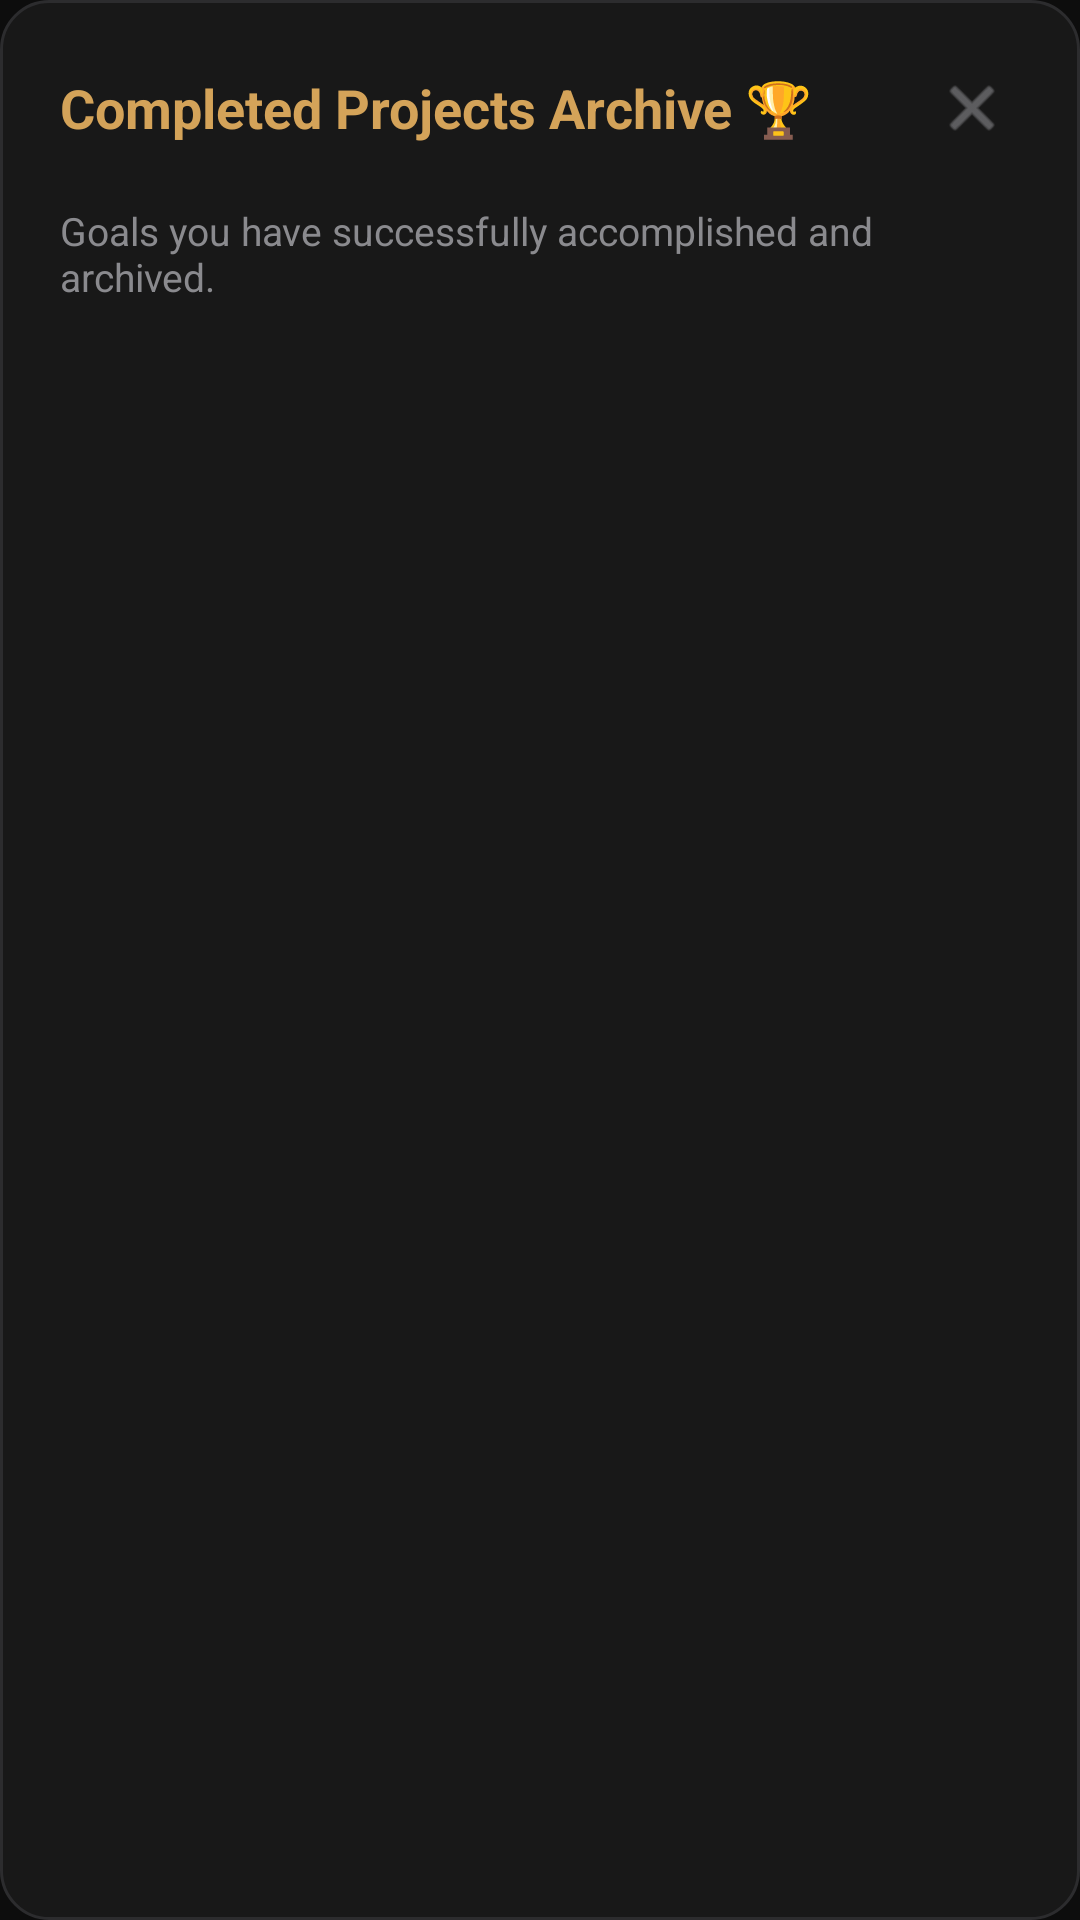

Locate icon controls on the screen. Image size 1080w x 1920h, boxes as (x1, y1, x2, y2).
Close: (950, 86, 994, 130)
